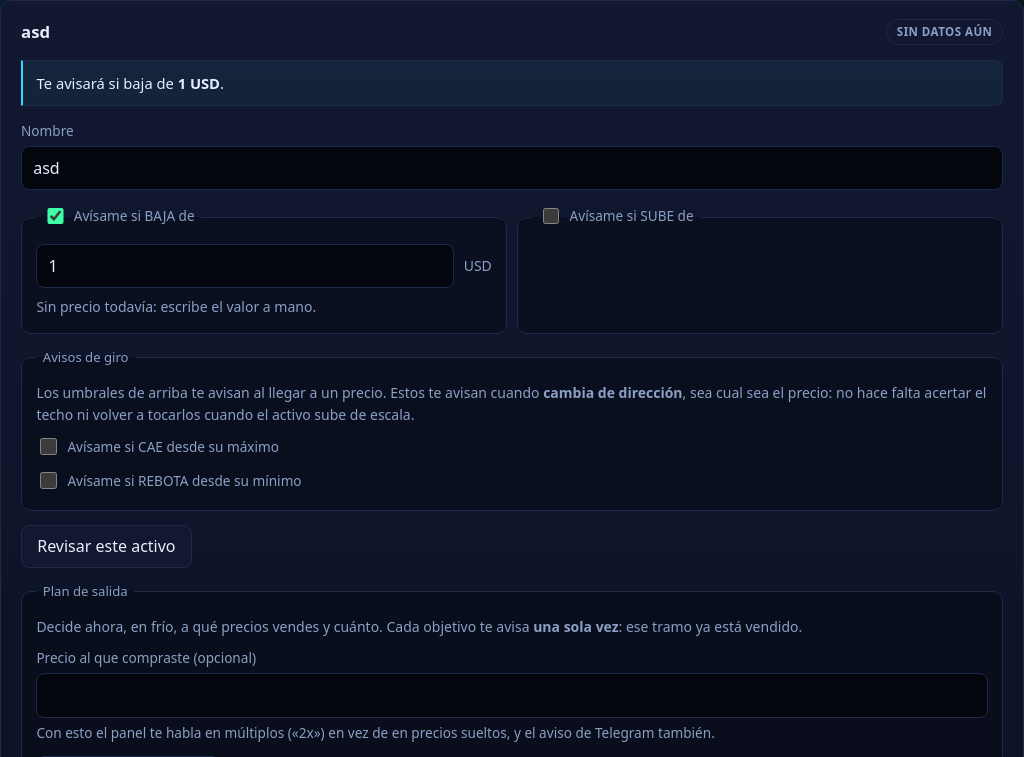
Test: la coma decimal, que aquí es el separador normal › escribir «0,6» guarda 0.6, no NaN
The width and height of the screenshot is (1024, 757).
Replace the text in the field named "BAJA" with "0,6" at (245, 266), box [36,244,454,288]
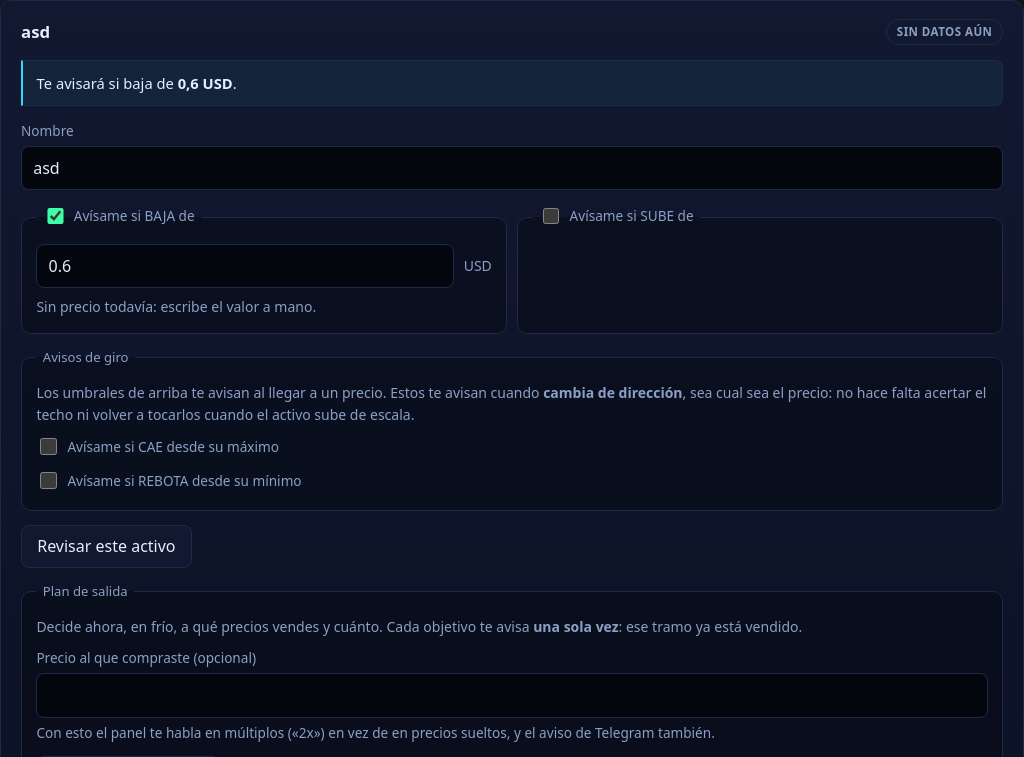
Check: the field named "BAJA" holds "0.6", box [36,244,454,288]
